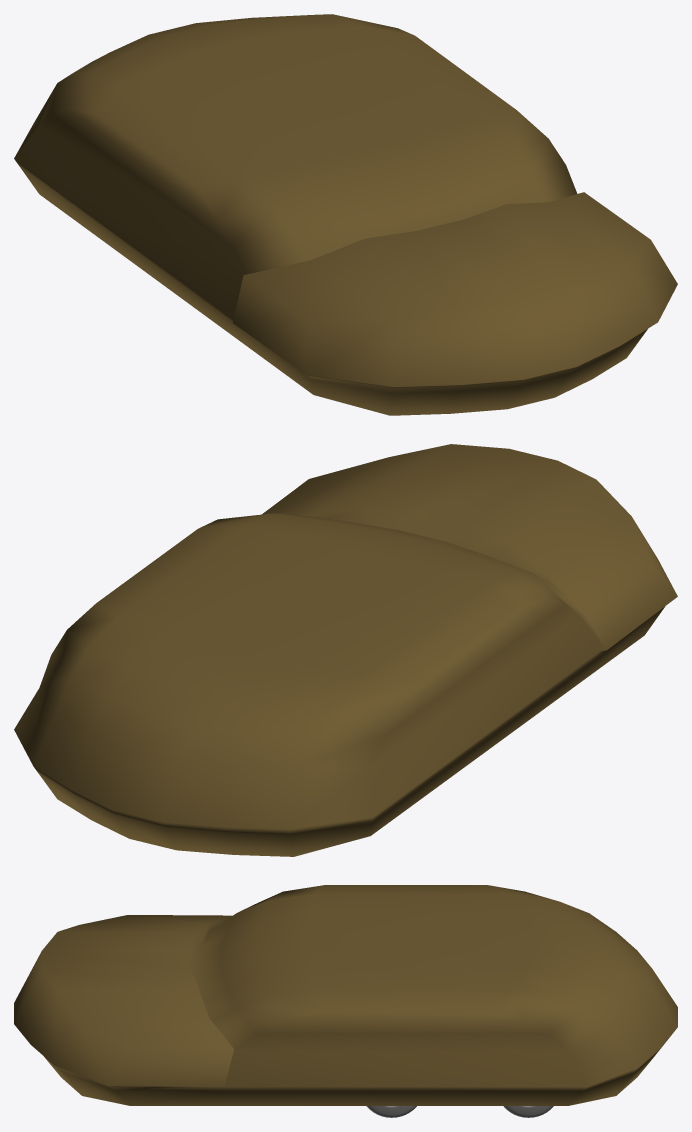
The model's file is Ship2.fbx.
3 views of the same model, one above another, from view 1: azimuth 30°, elevation 25°; view 2: azimuth 150°, elevation 25°; view 3: azimuth 270°, elevation 25° (orthographic). The views are drawn at different scales.
Visible parts, largest first — view 1: pCube1; view 2: pCube1; view 3: pCube1, pasted__pasted__pCylinder1, pasted__pCylinder1.
Part boxes in pixels (x1,y1,x2,y2): pCube1: (14, 14, 677, 415); pCube1: (14, 444, 677, 856); pCube1: (14, 885, 677, 1105); pasted__pasted__pCylinder1: (503, 1106, 553, 1117); pasted__pCylinder1: (366, 1106, 416, 1117).
Bounding box in the file's own units: 7.88 × 3.57 × 15.09.
